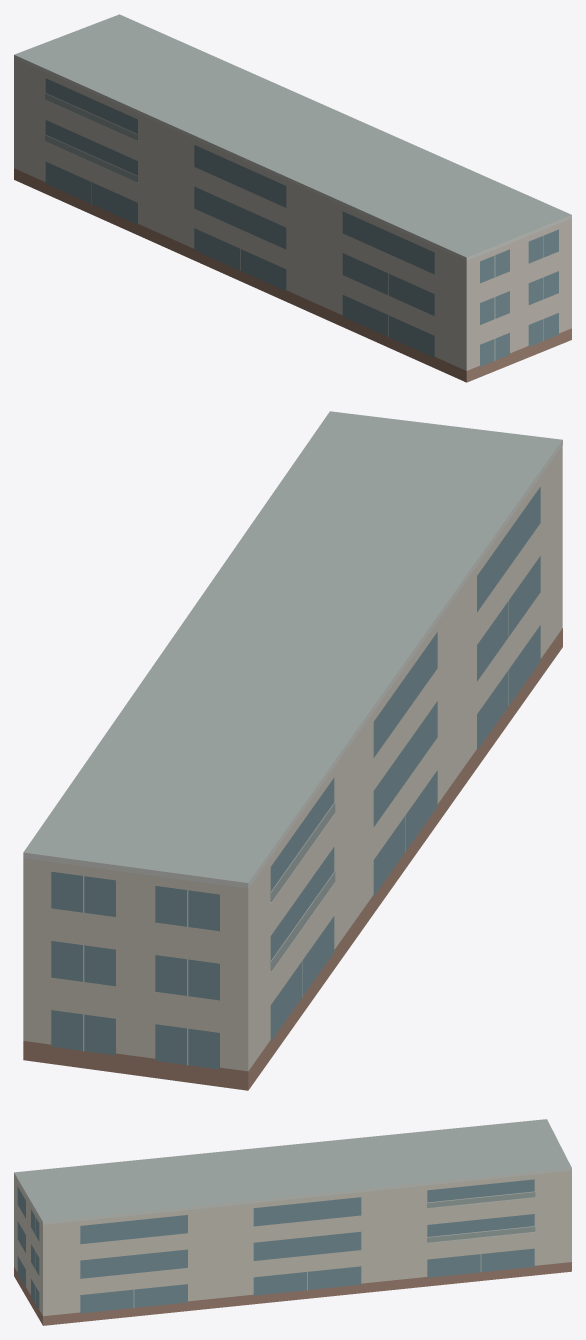
The model's file is survey-upis-32470493.glb.
3 renders of one model, top to bottom at view 1: azimuth 30°, elevation 25°; view 2: azimuth 150°, elevation 25°; view 3: azimuth 270°, elevation 25°, orthographic. The views are drawn at different scales.
Visible parts, largest first — view 1: survey-upis-32470493.tmp; view 2: survey-upis-32470493.tmp; view 3: survey-upis-32470493.tmp.
Boxes of the visible parts, x1=… form: survey-upis-32470493.tmp: x1=14, y1=14, x2=571, y2=382; survey-upis-32470493.tmp: x1=23, y1=411, x2=562, y2=1090; survey-upis-32470493.tmp: x1=14, y1=1119, x2=571, y2=1325.
Bounding box in the file's own units: 19.49 × 9.15 × 44.58.
